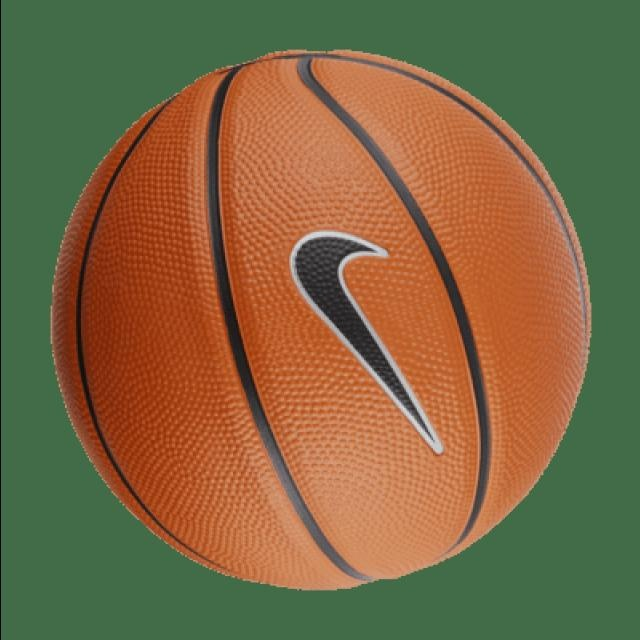agrume: (23, 40, 595, 592)
